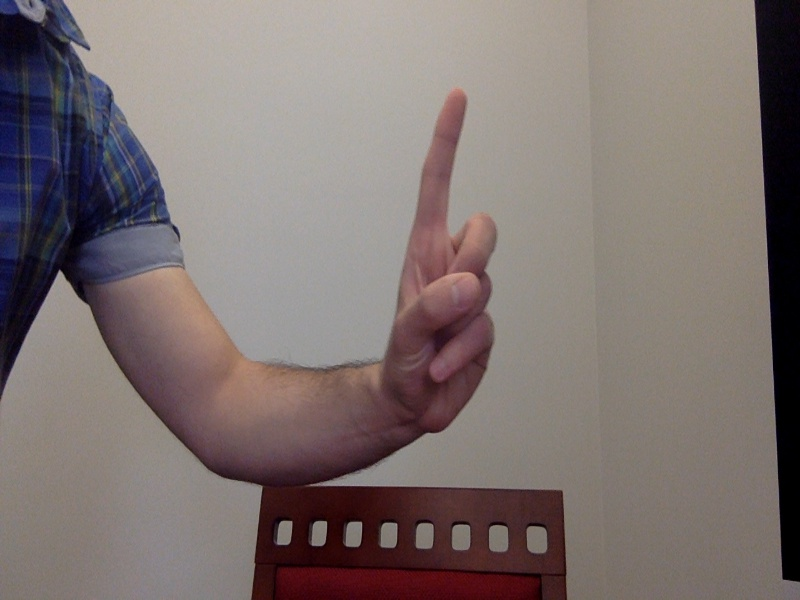1-hand: (384, 87, 500, 435)
